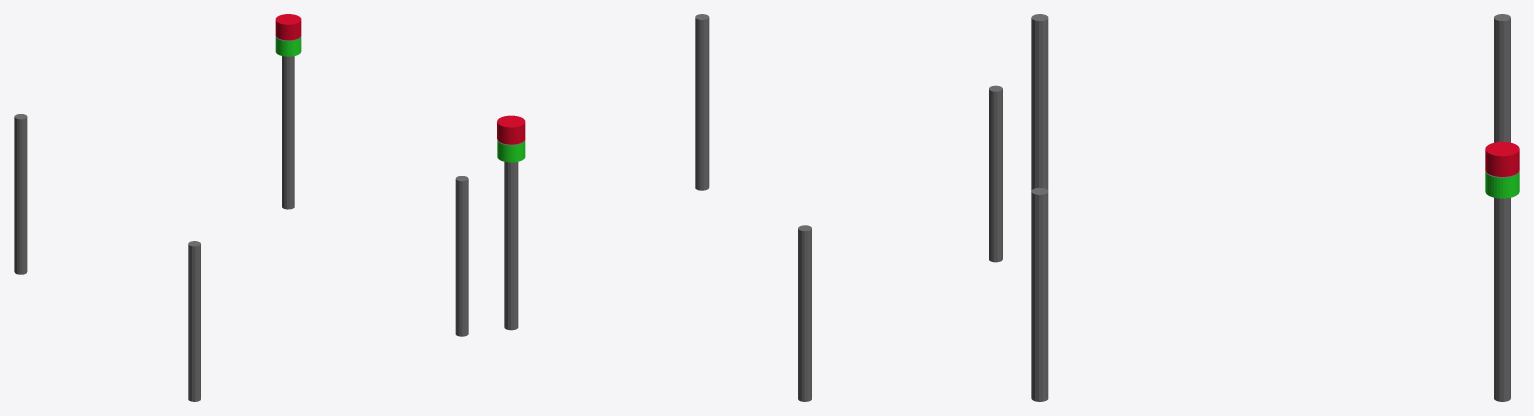
The model's file is light_curtain_cyl1.dae.
3 renders of one model, left to right at view 1: azimuth 30°, elevation 25°; view 2: azimuth 150°, elevation 25°; view 3: azimuth 270°, elevation 25°, orthographic. The views are drawn at different scales.
Visible parts, largest first — view 1: light_curtain_cyl.002; view 2: light_curtain_cyl.002; view 3: light_curtain_cyl.002.
Boxes of the visible parts, x1,y1,x2,y2 form: light_curtain_cyl.002: [14, 14, 468, 401]; light_curtain_cyl.002: [497, 14, 1002, 401]; light_curtain_cyl.002: [1031, 14, 1519, 401].
Bounding box in the file's own units: 3.83 × 4.28 × 2.41.
